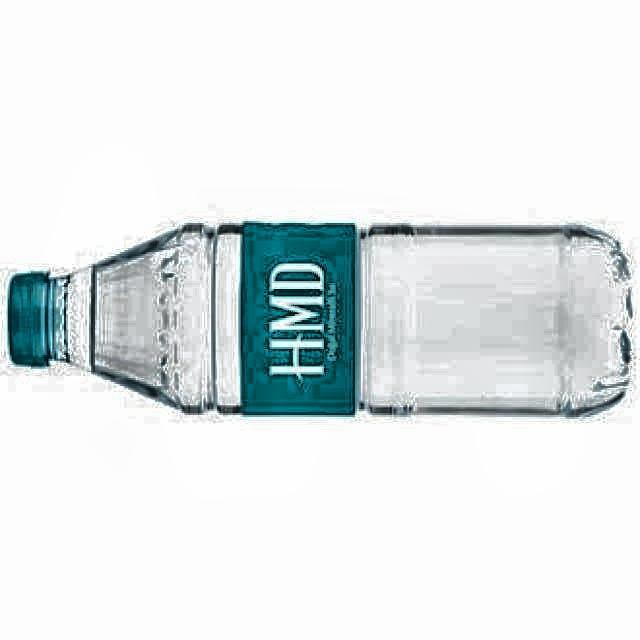plastic: (8, 224, 632, 415)
